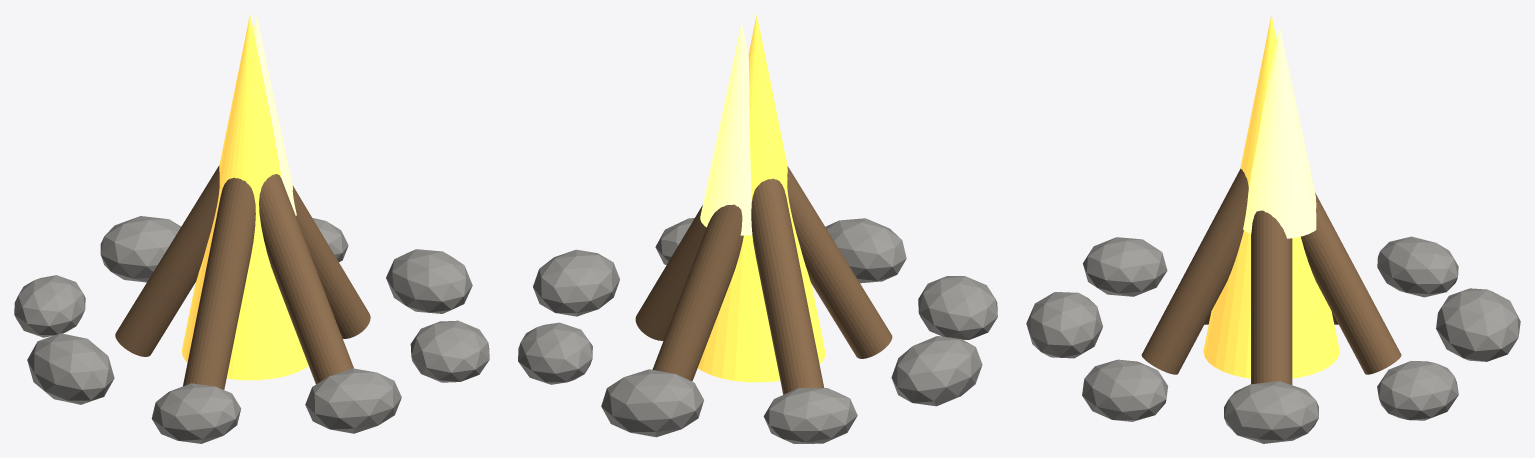
Rendered from campfire.glb.
3 views of the same model, side by side, from view 1: azimuth 30°, elevation 25°; view 2: azimuth 150°, elevation 25°; view 3: azimuth 270°, elevation 25° (orthographic).
Parts seen in each view (by area): view 1: Campfire; view 2: Campfire; view 3: Campfire.
Boxes of the visible parts, x1=… form: Campfire: x1=14, y1=14, x2=489, y2=443; Campfire: x1=518, y1=14, x2=997, y2=443; Campfire: x1=1026, y1=14, x2=1520, y2=443.
Size of the model in its own units: 1.2 by 0.9172 by 1.2.
